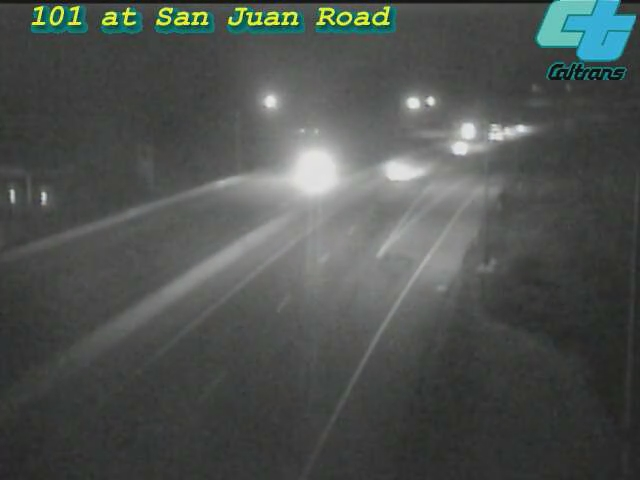vehicle: (277, 128, 357, 208), (365, 127, 445, 207), (444, 104, 494, 154), (500, 101, 550, 151), (473, 107, 523, 157), (439, 122, 489, 172)
